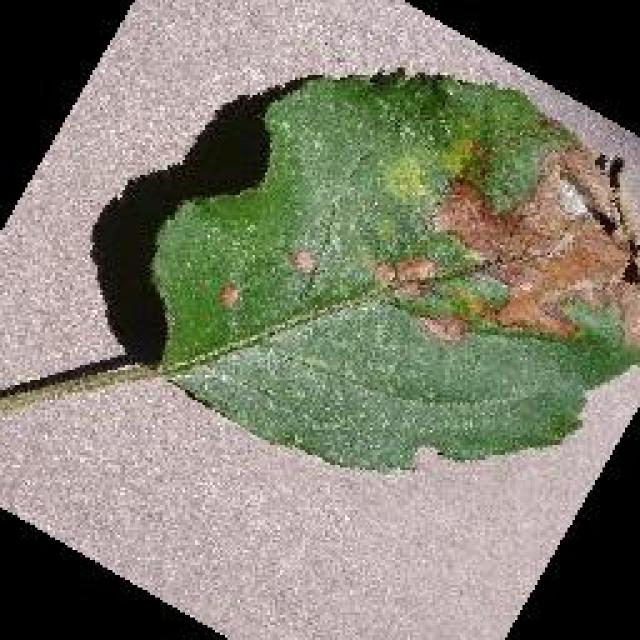Black_rot: (0, 0, 638, 638), (142, 68, 638, 472)
